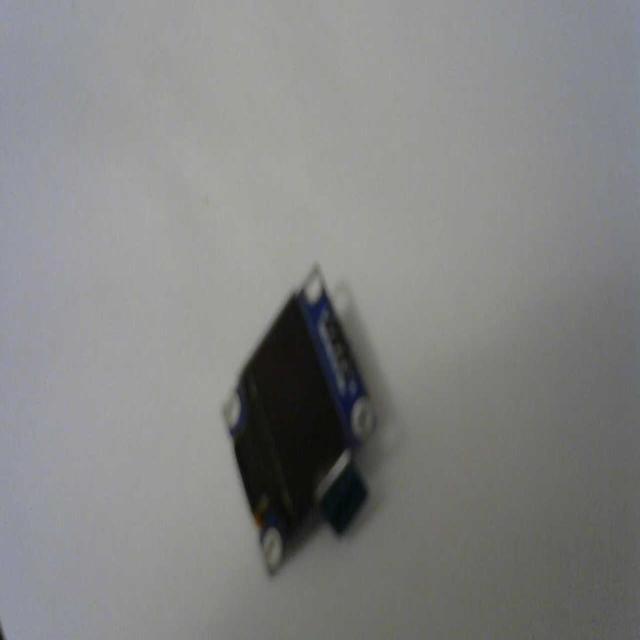oled: (216, 262, 386, 588)
